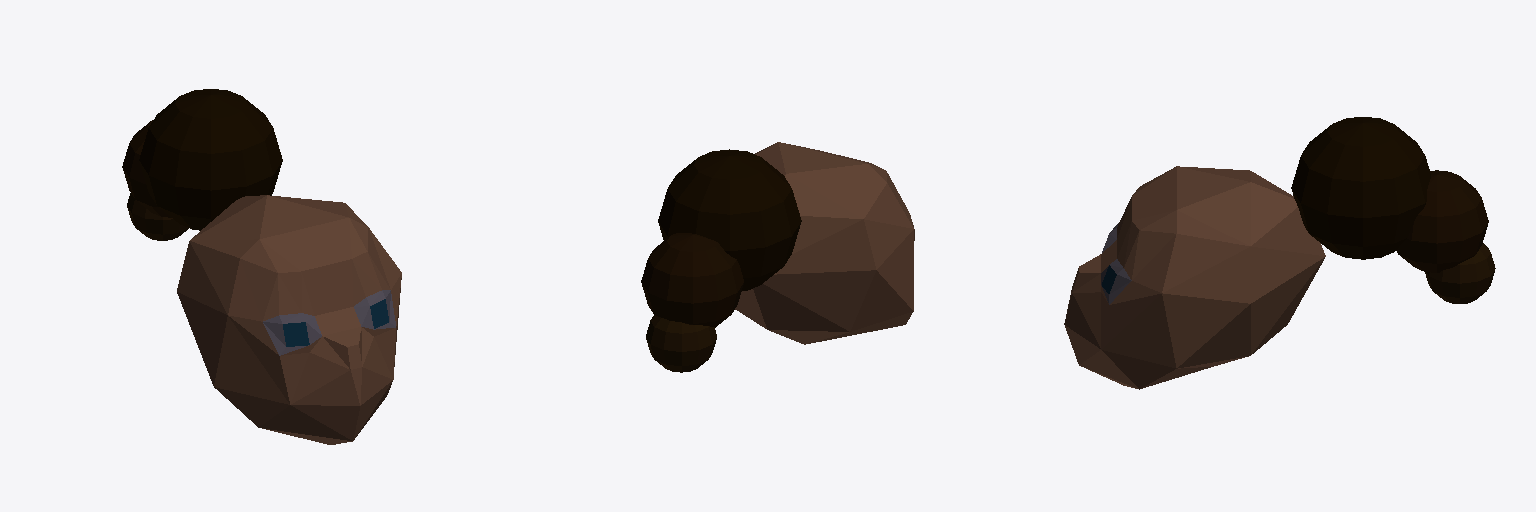
The model's file is TwinsenHead.obj.
The picture shows the model from 3 angles: view 1: azimuth 30°, elevation 25°; view 2: azimuth 150°, elevation 25°; view 3: azimuth 270°, elevation 25°; orthographic projection.
Visible parts, largest first — view 1: body.001; view 2: body.001; view 3: body.001.
Boxes of the visible parts, x1=… form: body.001: x1=122, y1=89, x2=401, y2=444; body.001: x1=641, y1=142, x2=914, y2=372; body.001: x1=1064, y1=117, x2=1495, y2=389.
Size of the model in its own units: 0.193 by 0.258 by 0.384.